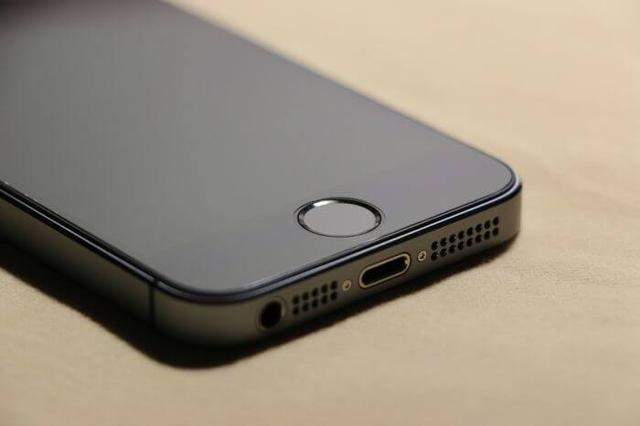phone: (2, 6, 521, 364)
